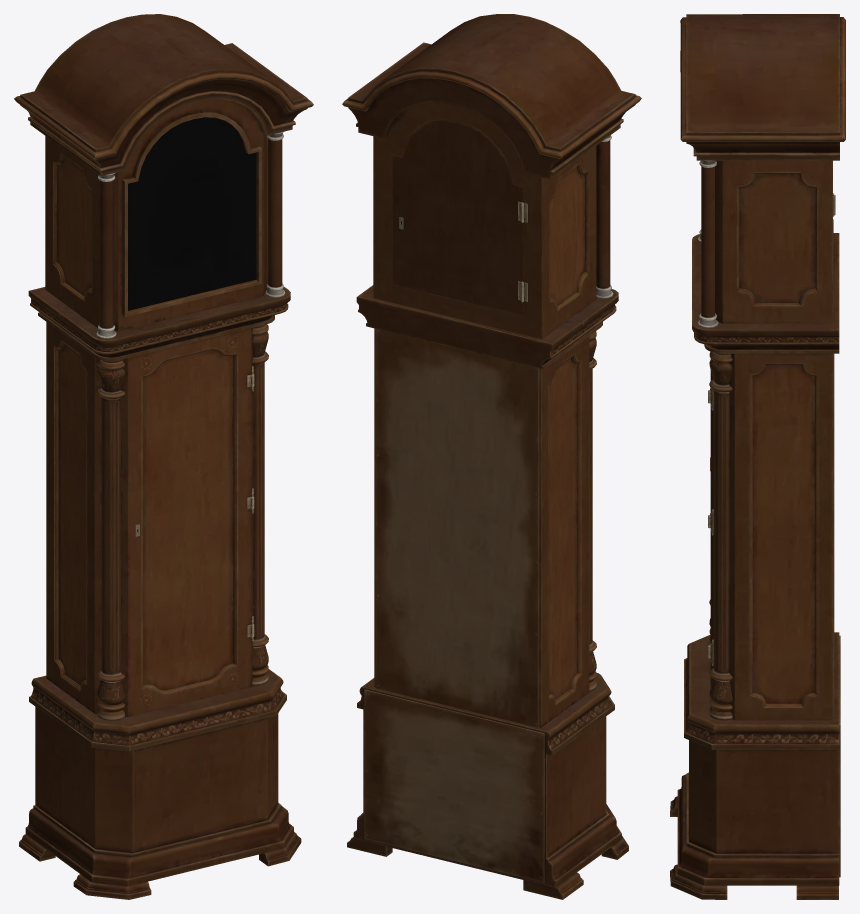
The model's file is vintage_grandfather_clock_01.glb.
The picture shows the model from 3 angles, left to right: view 1: azimuth 30°, elevation 25°; view 2: azimuth 150°, elevation 25°; view 3: azimuth 270°, elevation 25°; orthographic projection. The views are drawn at different scales.
Parts seen in each view (by area): view 1: vintage_grandfather_clock_01_body; view 2: vintage_grandfather_clock_01_body; view 3: vintage_grandfather_clock_01_body.
Part boxes in pixels (<box>): vintage_grandfather_clock_01_body: <box>14,14,313,899</box>; vintage_grandfather_clock_01_body: <box>342,14,641,899</box>; vintage_grandfather_clock_01_body: <box>670,14,845,899</box>.
Bounding box in the file's own units: 0.6255 × 2.19 × 0.4265.
Materials: 2 (2 with a texture image).
